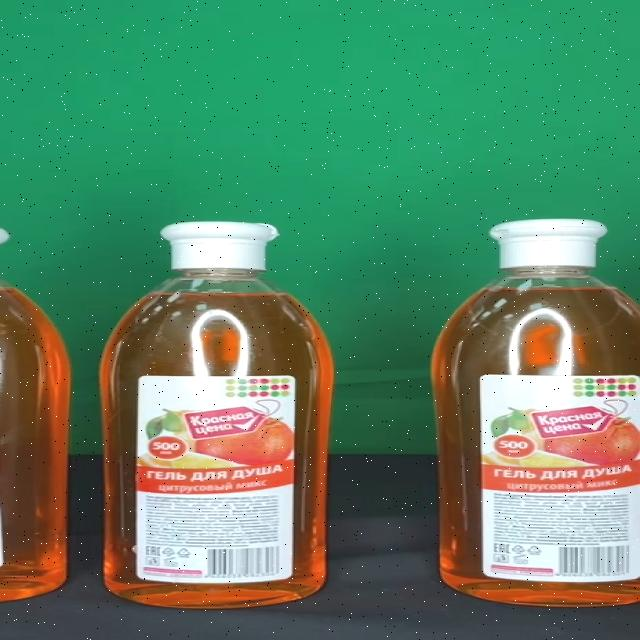Bottle: (100, 221, 335, 608), (432, 219, 640, 606)
Cap: (160, 221, 281, 269), (489, 220, 607, 268)
